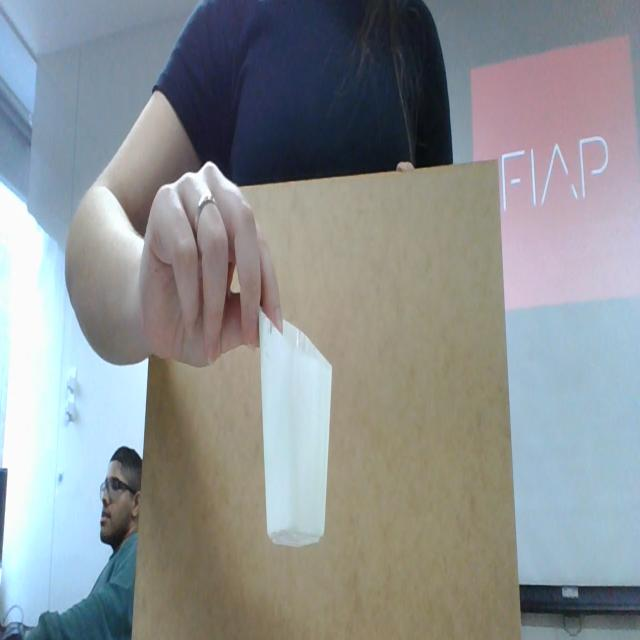erva_daninha: (258, 310, 332, 550)
